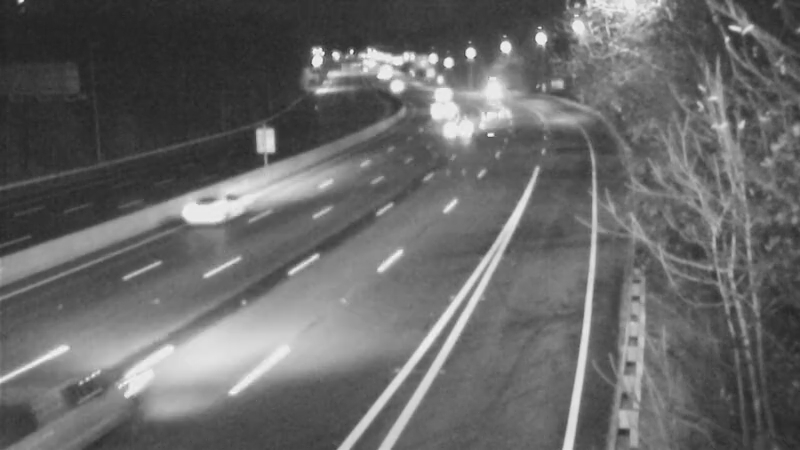vehicle: (15, 343, 125, 450), (174, 167, 254, 247), (371, 61, 421, 111), (419, 69, 469, 119), (463, 69, 513, 119), (418, 84, 468, 134), (468, 93, 518, 143), (433, 106, 483, 156)
